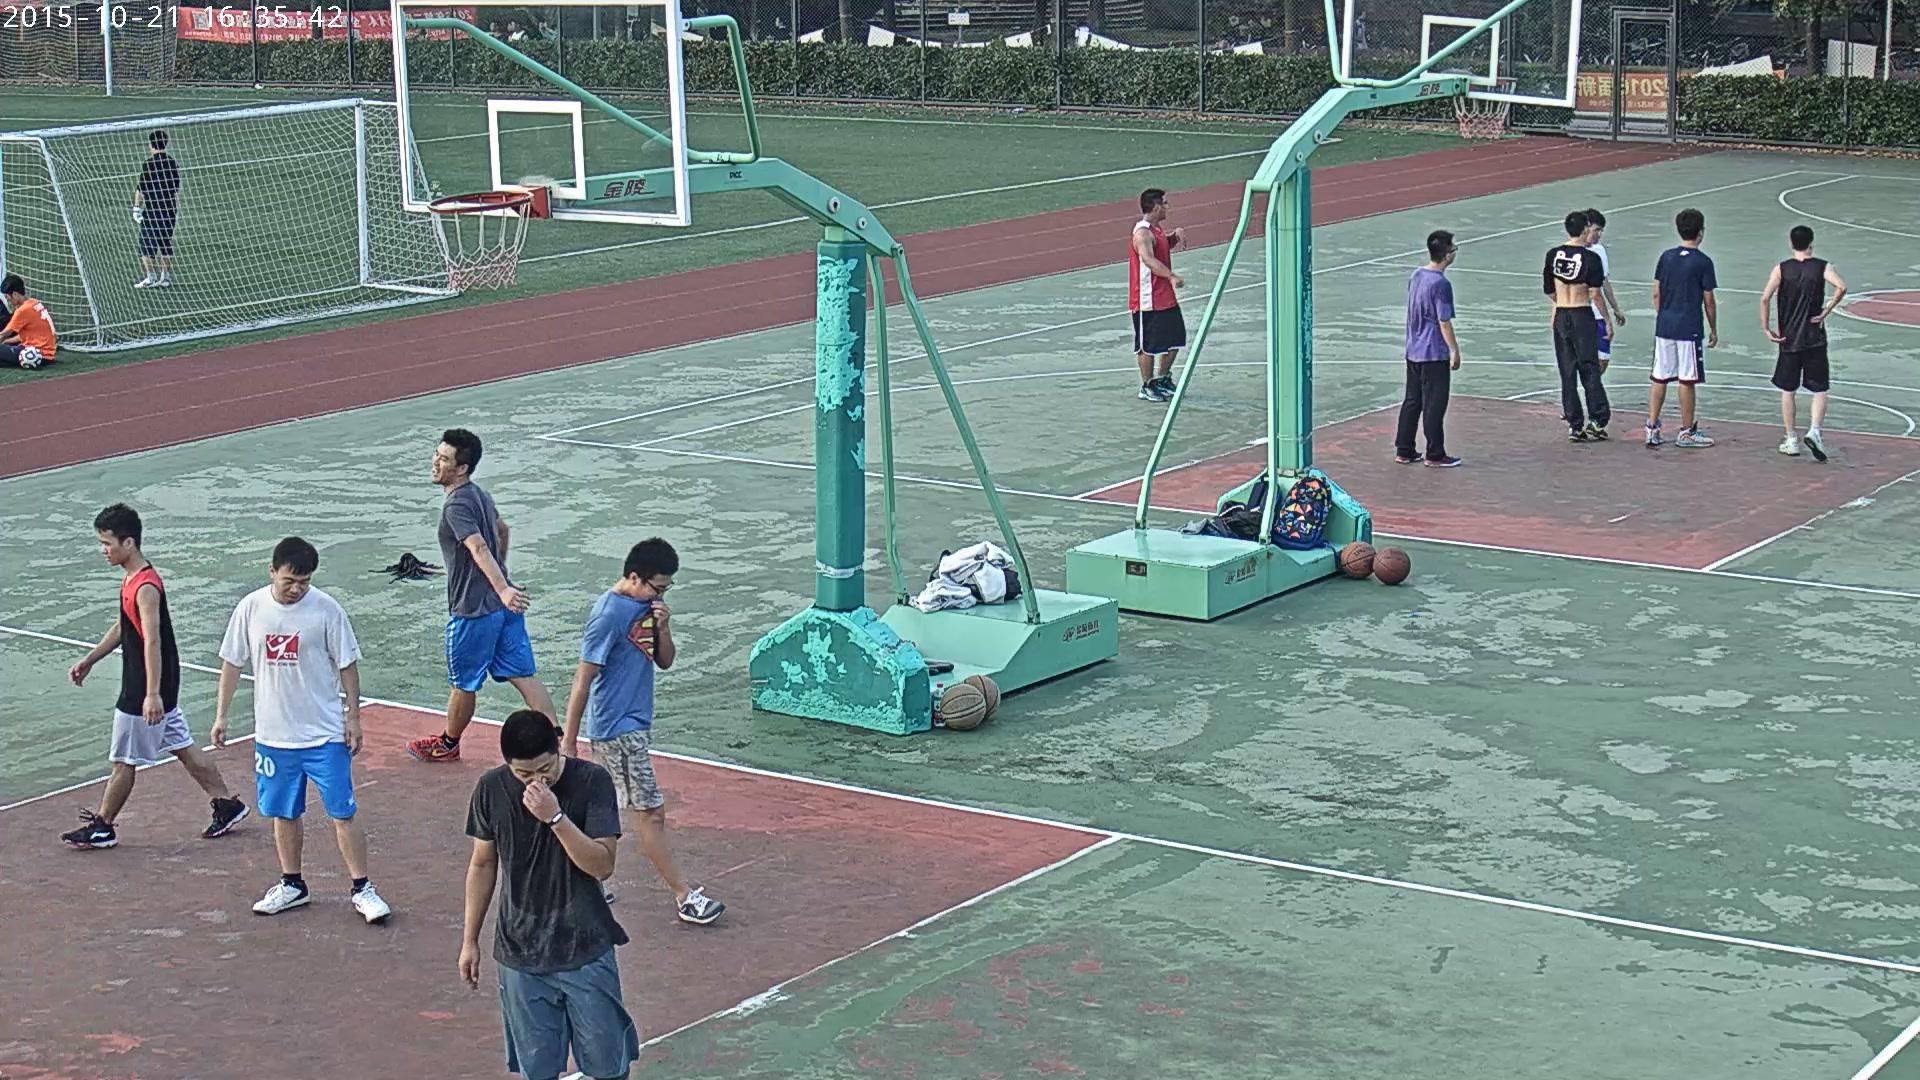face: (511, 753, 559, 786), (275, 564, 310, 602), (430, 441, 458, 484), (632, 574, 672, 599), (100, 528, 124, 565), (1586, 224, 1606, 243), (1159, 195, 1168, 220), (5, 292, 17, 306), (1449, 241, 1456, 264), (507, 21, 516, 30), (490, 21, 500, 30), (775, 18, 780, 26), (1361, 10, 1365, 18)
